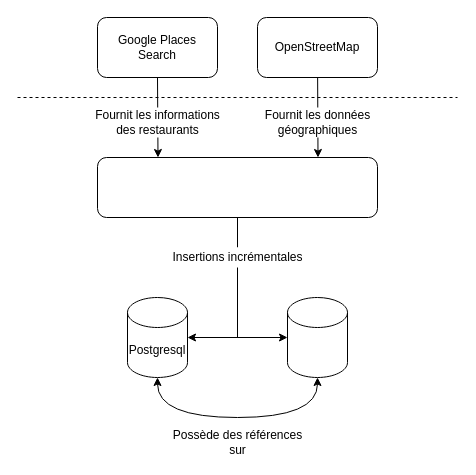
Some shapes in this 476 by 475 pixel diagram are drawn without their labels. The shapes that lost their labels are listed below. From the top down, each one's centre as x and y in pixels, then its label:
At [237,187]: "Application d'ETL".
At [317,337]: "Neo4J".
